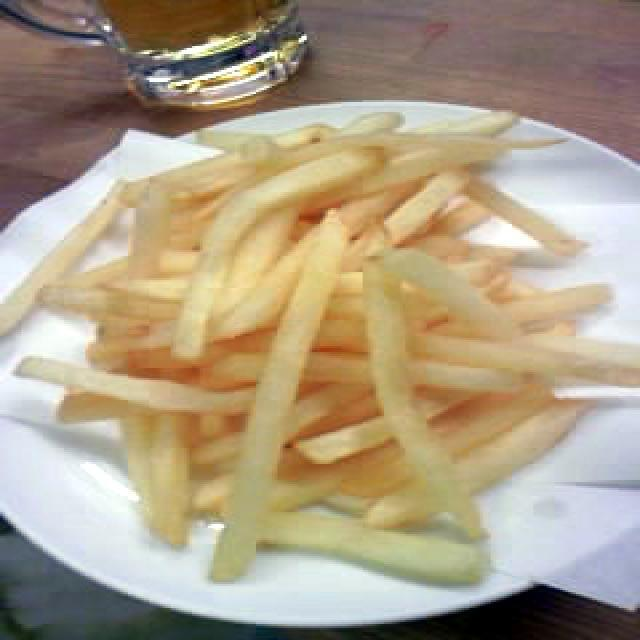French Fries: (30, 114, 578, 568)
